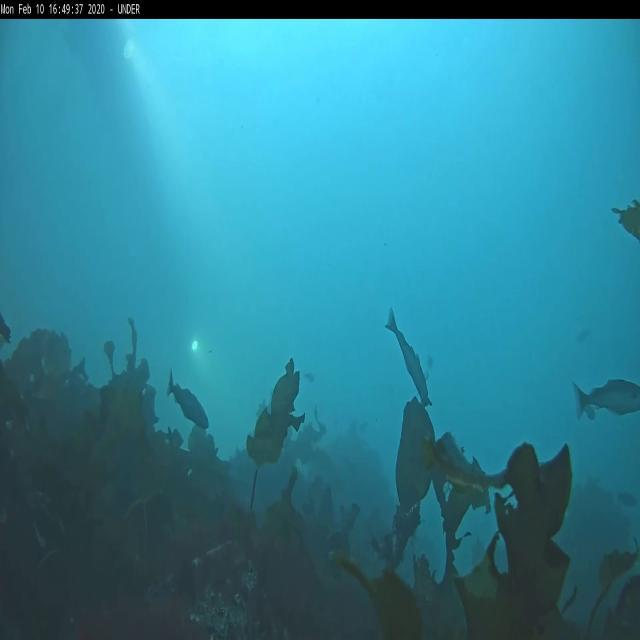fish: (385, 308, 427, 404), (167, 370, 210, 428), (572, 381, 638, 418)
